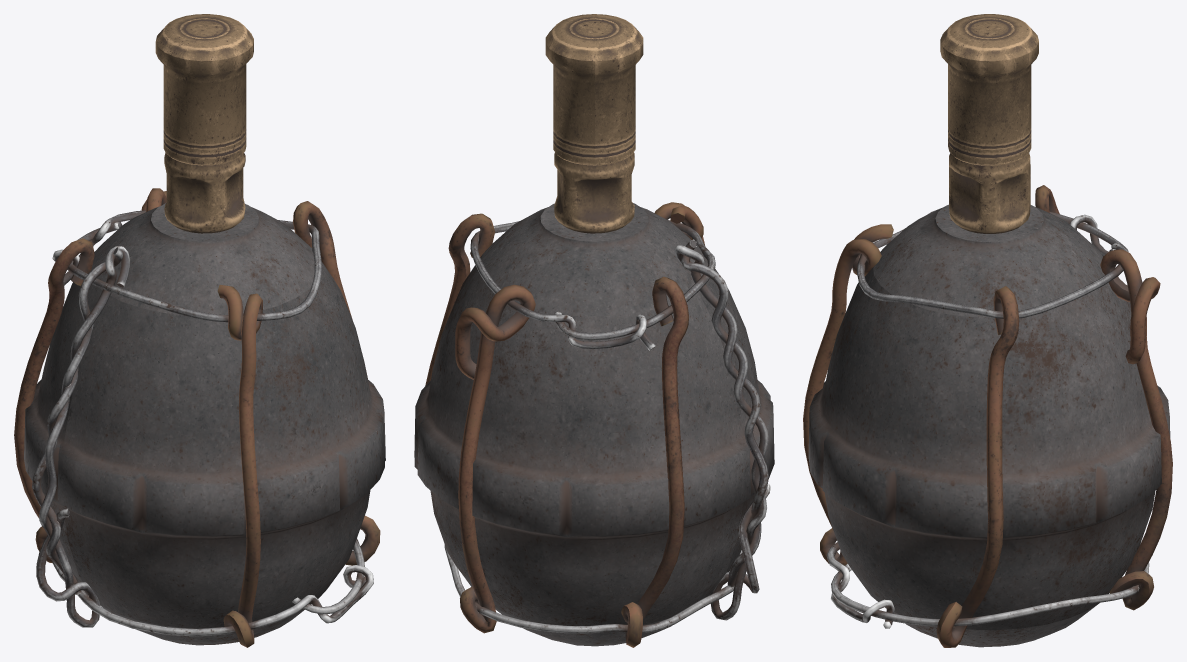
Rendered from Eierhandgranate39.fbx.
3 views of the same model, side by side, from view 1: azimuth 30°, elevation 25°; view 2: azimuth 150°, elevation 25°; view 3: azimuth 270°, elevation 25° (orthographic).
Parts seen in each view (by area): view 1: main_body_lowpoly, extra_sharp_lowpoly, fuze_cap_lowpoly, fuze_lowpoly; view 2: main_body_lowpoly, extra_sharp_lowpoly, fuze_cap_lowpoly, fuze_lowpoly; view 3: main_body_lowpoly, extra_sharp_lowpoly, fuze_cap_lowpoly, fuze_lowpoly.
Part boxes in pixels (box(x1,y1,x2,y2)): main_body_lowpoly: box(24, 203, 385, 645); extra_sharp_lowpoly: box(14, 188, 380, 647); fuze_cap_lowpoly: box(155, 14, 253, 165); fuze_lowpoly: box(164, 152, 245, 233); main_body_lowpoly: box(414, 203, 774, 646); extra_sharp_lowpoly: box(425, 202, 770, 647); fuze_cap_lowpoly: box(545, 14, 643, 165); fuze_lowpoly: box(554, 152, 634, 233); main_body_lowpoly: box(808, 204, 1170, 647); extra_sharp_lowpoly: box(803, 185, 1172, 647); fuze_cap_lowpoly: box(940, 14, 1038, 165); fuze_lowpoly: box(949, 153, 1030, 233).
Size of the model in its own units: 0.047 by 0.08 by 0.0443.
